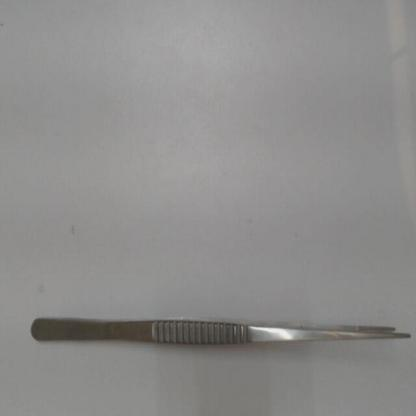DeBakey Dissector: (17, 297, 414, 364)
